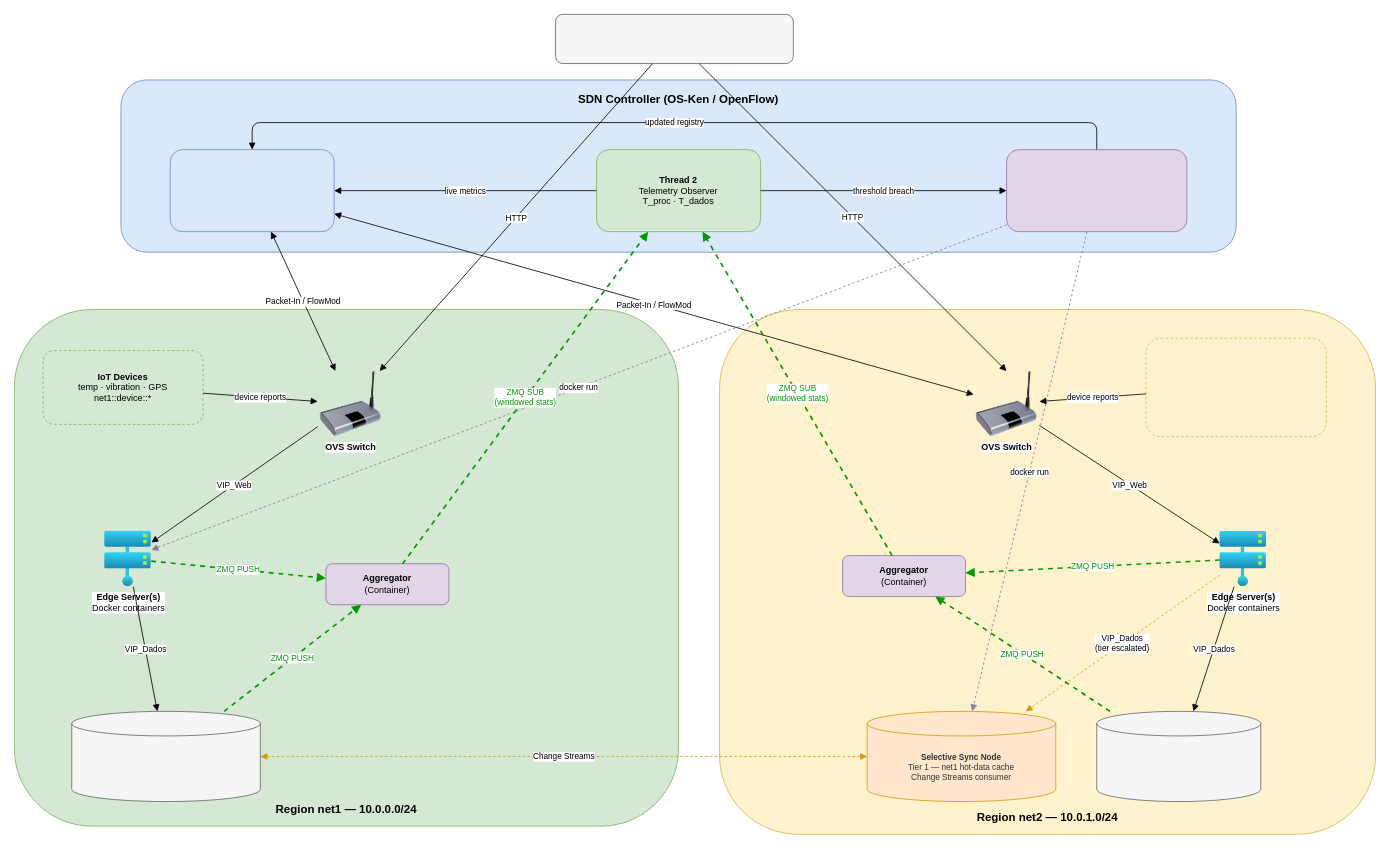
Some shapes in this 1390 by 849 pixel diagram are drawn without their labels. The shapes that lost their labels are listed below. From the top down, each one's centre as x and y in pixels, then its label:
At point 674,39: "Monitoring Client /device · /anomalies · /dashboard".
At point 251,190: "Thread 1 Fast-Path Router WSM scheduling".
At point 1096,190: "Thread 3 Orchestrator Compute + Data Managers".
At point 1235,387: "IoT Devices water · power · air quality net2::device::*".
At point 165,756: "MongoDB Primary sensor_reports device_registry · query_events".
At point 1178,756: "MongoDB Primary net2 data store".
